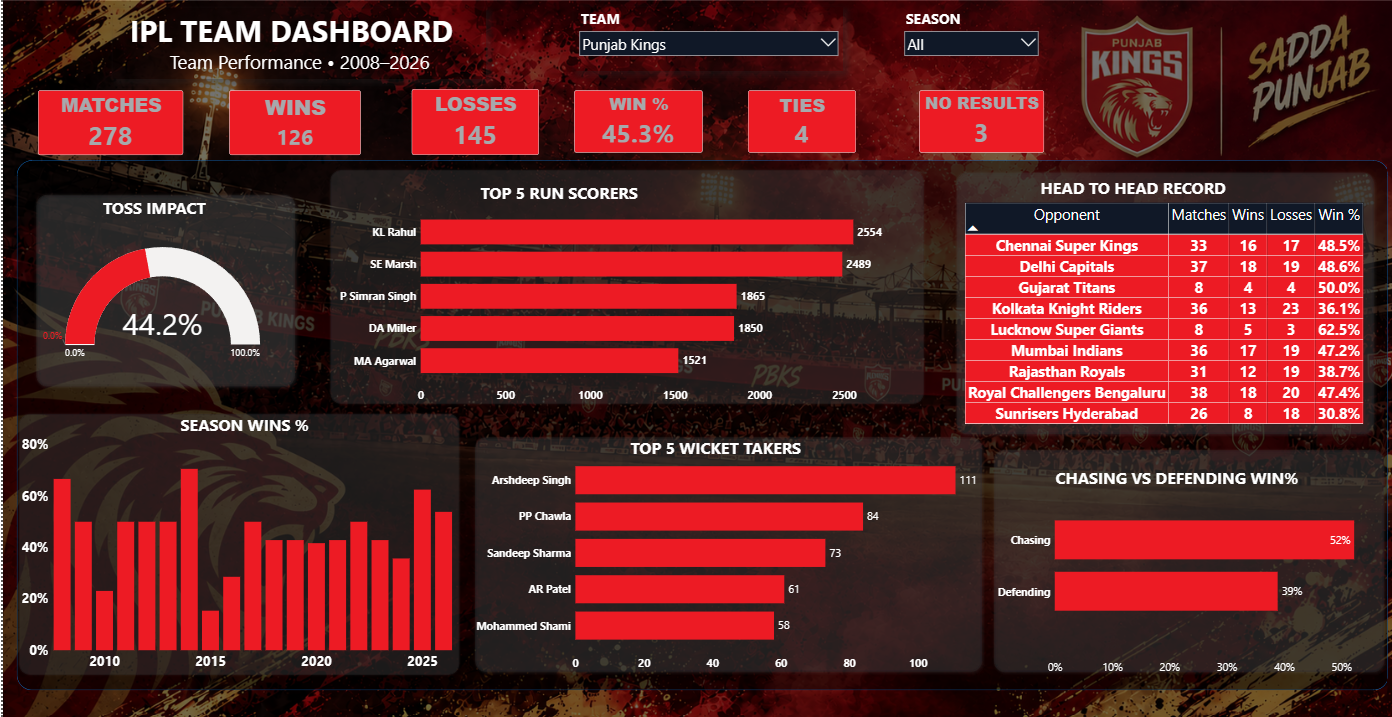

Layout of this report page (visuals, bound fields, positions):
{"tool":"powerbi","page":{"name":"Page 1","canvas":[2800,1450],"ordinal":0},"visuals":[{"type":"image","box":[0,2.3,2800,1448.5],"z":0},{"type":"shape","box":[0,2.3,2800,1448.5],"z":1000},{"type":"shape","box":[27.2,322.3,2744.3,1060],"z":2000},{"type":"shape","box":[56.7,383.6,535.7,401.8],"z":2500},{"type":"shape","box":[649.2,338.2,1196.2,476.7],"z":2750},{"type":"shape","box":[935.6,868.6,1032.7,487.5],"z":2875},{"type":"shape","box":[27.2,824,889.8,531.2],"z":2937},{"type":"shape","box":[1897.6,338.2,853.5,542.5],"z":2968},{"type":"shape","box":[1972.5,892.1,799,463.1],"z":2984},{"type":"slicer","fields":{"Values":["Dim_Team.Team_Name"]},"box":[1143.6,13.9,538.3,129.4],"z":3000},{"type":"slicer","fields":{"Values":["Dim_Date.Year"]},"box":[1792.7,13.9,288.8,129.4],"z":4000},{"type":"textbox","box":[219.5,18.5,746.2,143.2],"z":5000},{"type":"cardVisual","title":"MATCHES","fields":{"Data":["Dim_Date.Matches Played"]},"box":[70.4,181.6,290.5,129.4],"z":6000},{"type":"cardVisual","title":"WINS","fields":{"Data":["Fact_Match.Wins"]},"box":[452.8,182.5,263.4,129.4],"z":8000},{"type":"cardVisual","title":"LOSSES","fields":{"Data":["Fact_Match.Losses"]},"box":[817.2,179.3,254.2,131.7],"z":9000},{"type":"cardVisual","title":"WIN %","fields":{"Data":["Fact_Match.Win %"]},"box":[1143.6,182.5,256.4,124.8],"z":10000},{"type":"cardVisual","title":"TIES","fields":{"Data":["Fact_Match.Ties"]},"box":[1489,181.6,215.6,124.8],"z":11000},{"type":"cardVisual","title":"NO RESULTS","fields":{"Data":["Fact_Match.No Results"]},"box":[1832,182.5,249.5,124.8],"z":12000},{"type":"clusteredBarChart","title":"Top 5 Run Scorers","fields":{"Y":["Dim_Date.Total Runs"],"Category":["Fact_Ball.batter"]},"box":[667.3,401.8,1125.9,415.4],"z":13000},{"type":"clusteredBarChart","title":"Top 5 Wicket Takers","fields":{"Category":["Fact_Ball.bowler"],"Y":["Fact_Ball.Total Wickets"]},"box":[940.3,891.7,1032.7,462],"z":14000},{"type":"tableEx","title":"HEAD-TO-HEAD RECORD","fields":{"Values":["H2H Opponents.Opponent","Dim_Date.H2H Matches","Dim_Date.H2H Wins","Dim_Date.H2H Losses","Dim_Date.H2H Win %"]},"box":[1918.1,401.8,810.4,469.9],"z":15000},{"type":"clusteredBarChart","title":"Chasing vs Defending","fields":{"Category":["Match Situation.Situation"],"Y":["Match Situation.Situation Win %"]},"box":[1988.4,937.5,783.1,419.9],"z":16000},{"type":"clusteredColumnChart","title":"Season Wins","fields":{"Y":["Dim_Date.Season Win %"],"Category":["Dim_Date.Year"]},"box":[32.3,868.6,884.8,485.1],"z":17000},{"type":"gauge","title":"Toss Impact","fields":{"Y":["Dim_Date.Toss Win Match %"]},"box":[70.4,474.4,449.4,272.4],"z":18000},{"type":"textbox","box":[196,390,301.9,72.6],"z":19000},{"type":"textbox","box":[950,360,397.2,81.7],"z":20000},{"type":"textbox","box":[2070,350,492.6,145.3],"z":21000},{"type":"textbox","box":[350,825,300,300],"z":22000},{"type":"textbox","box":[1250,870,399.7,83.2],"z":23000},{"type":"textbox","box":[2100,930,559.1,122.4],"z":24000}]}

Visuals, with their boxes in screenshot pixels (x1, y1, x2, y2), scaled from the page's 2800x1450 canvas onto the 1392x717 screenshot:
image: 0, 1, 1391, 716
shape: 0, 1, 1391, 716
shape: 14, 159, 1378, 684
shape: 28, 190, 295, 388
shape: 323, 167, 917, 403
shape: 465, 430, 979, 671
shape: 14, 407, 456, 670
shape: 943, 167, 1368, 435
shape: 981, 441, 1378, 670
slicer - Dim_Team.Team_Name: 569, 7, 836, 71
slicer - Dim_Date.Year: 891, 7, 1035, 71
textbox: 109, 9, 480, 80
"MATCHES" cardVisual: 35, 90, 179, 154
"WINS" cardVisual: 225, 90, 356, 154
"LOSSES" cardVisual: 406, 89, 533, 154
"WIN %" cardVisual: 569, 90, 696, 152
"TIES" cardVisual: 740, 90, 847, 152
"NO RESULTS" cardVisual: 911, 90, 1035, 152
"Top 5 Run Scorers" clusteredBarChart: 332, 199, 891, 404
"Top 5 Wicket Takers" clusteredBarChart: 467, 441, 981, 669
"HEAD-TO-HEAD RECORD" tableEx: 954, 199, 1356, 431
"Chasing vs Defending" clusteredBarChart: 989, 464, 1378, 671
"Season Wins" clusteredColumnChart: 16, 430, 456, 669
"Toss Impact" gauge: 35, 235, 258, 369
textbox: 97, 193, 248, 229
textbox: 472, 178, 670, 218
textbox: 1029, 173, 1274, 245
textbox: 174, 408, 323, 556
textbox: 621, 430, 820, 471
textbox: 1044, 460, 1322, 520
